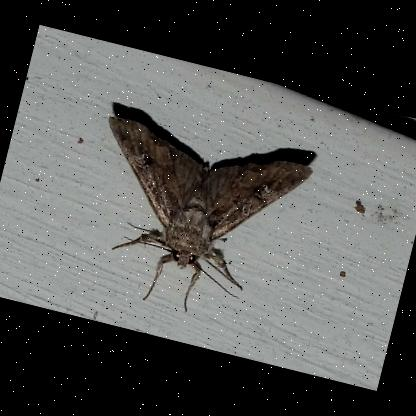Fall Armyworm Moth: (64, 111, 317, 338)
